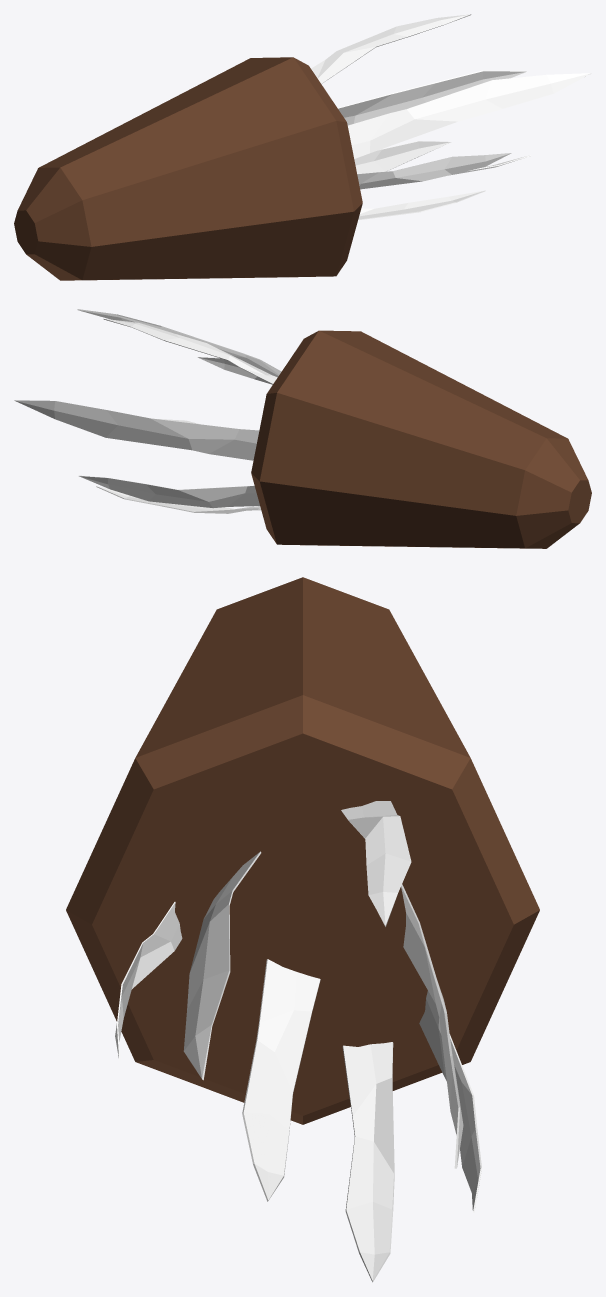
The model's file is Chard_Seedling.fbx.
The picture shows the model from 3 angles, top to bottom: view 1: azimuth 30°, elevation 25°; view 2: azimuth 150°, elevation 25°; view 3: azimuth 270°, elevation 25°; orthographic projection. The views are drawn at different scales.
Visible parts, largest first — view 1: Chard_Seedling; view 2: Chard_Seedling; view 3: Chard_Seedling.
Part boxes in pixels (left/top/right/bottom): Chard_Seedling: left=14, top=14, right=591, bottom=280; Chard_Seedling: left=14, top=309, right=591, bottom=548; Chard_Seedling: left=66, top=577, right=539, bottom=1282.
Bounding box in the file's own units: 22.6 × 8.8 × 8.8.
